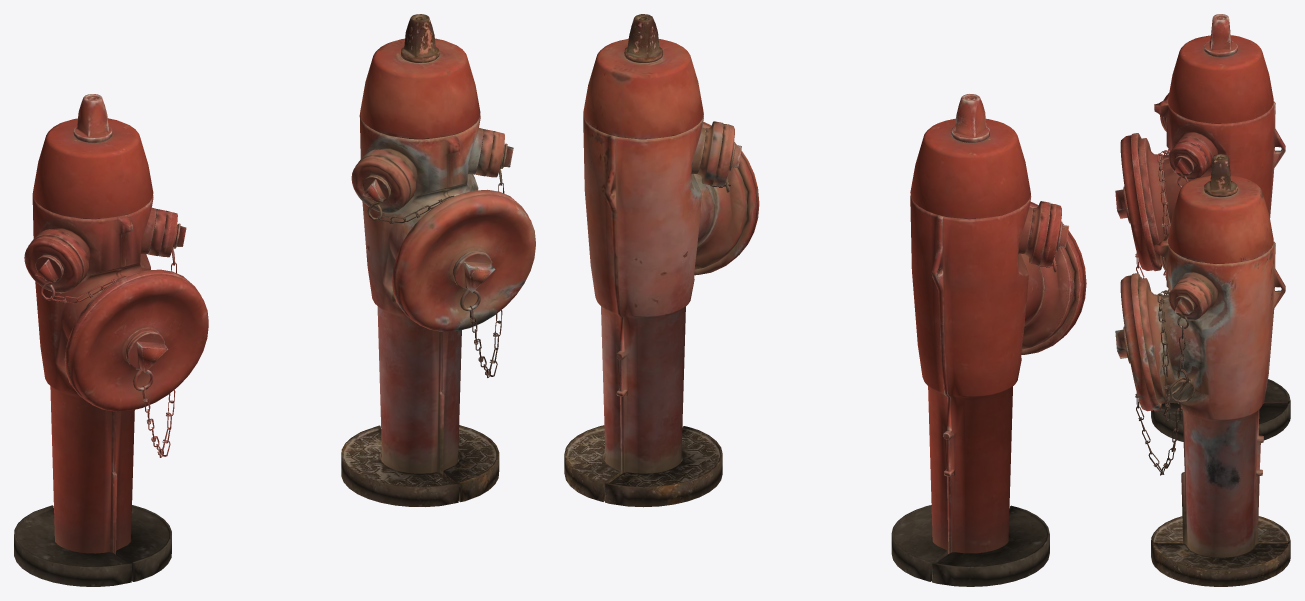
The model's file is fire-hydrant.glb.
The picture shows the model from 3 angles, left to right: view 1: azimuth 30°, elevation 25°; view 2: azimuth 150°, elevation 25°; view 3: azimuth 270°, elevation 25°; orthographic projection. The views are drawn at different scales.
Visible parts, largest first — view 1: fire_hydrant_aged, fire_hydrant; view 2: fire_hydrant, fire_hydrant_aged; view 3: fire_hydrant_aged, fire_hydrant.
Part boxes in pixels (box(x1,y1,x2,y2)): fire_hydrant_aged: box(341, 14, 535, 506); fire_hydrant: box(14, 94, 208, 586); fire_hydrant: box(891, 94, 1086, 586); fire_hydrant_aged: box(564, 14, 759, 507); fire_hydrant_aged: box(1115, 154, 1290, 586); fire_hydrant: box(1115, 14, 1290, 441).
Bounding box in the file's own units: 0.8745 × 0.7994 × 0.3173.
2 materials, 2 textured.
